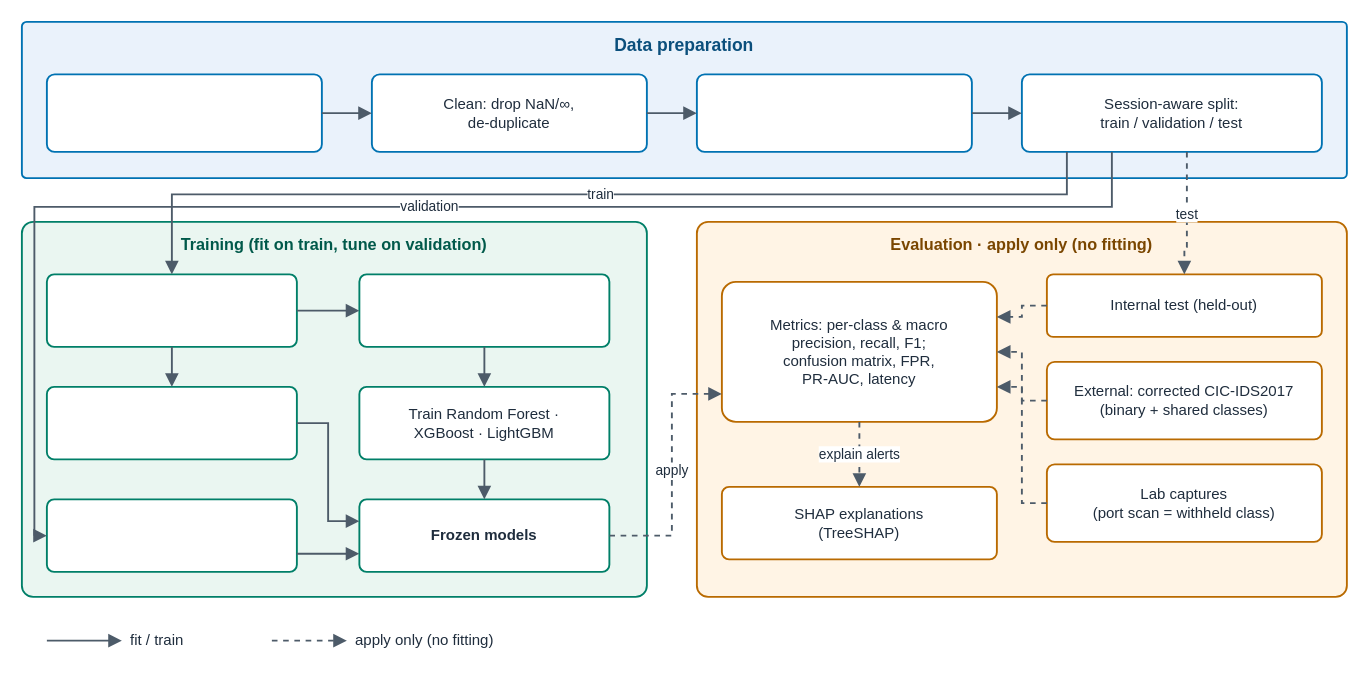
This 1370x678 diagram has some shape labels left out. Here are the shapes that lost their labels. From the top down, the centre of each, then its label:
At (183,112): "Corrected CSE-CIC-IDS2018 (Liu et al., 2022)".
At (833,112): "Harmonise labels ('Attempted' flows handled)".
At (171,310): "Fit preprocessing (train only)".
At (484,310): "Class weighting".
At (171,422): "Isolation Forest (benign flows only)".
At (171,535): "Tune thresholds (validation only)".
